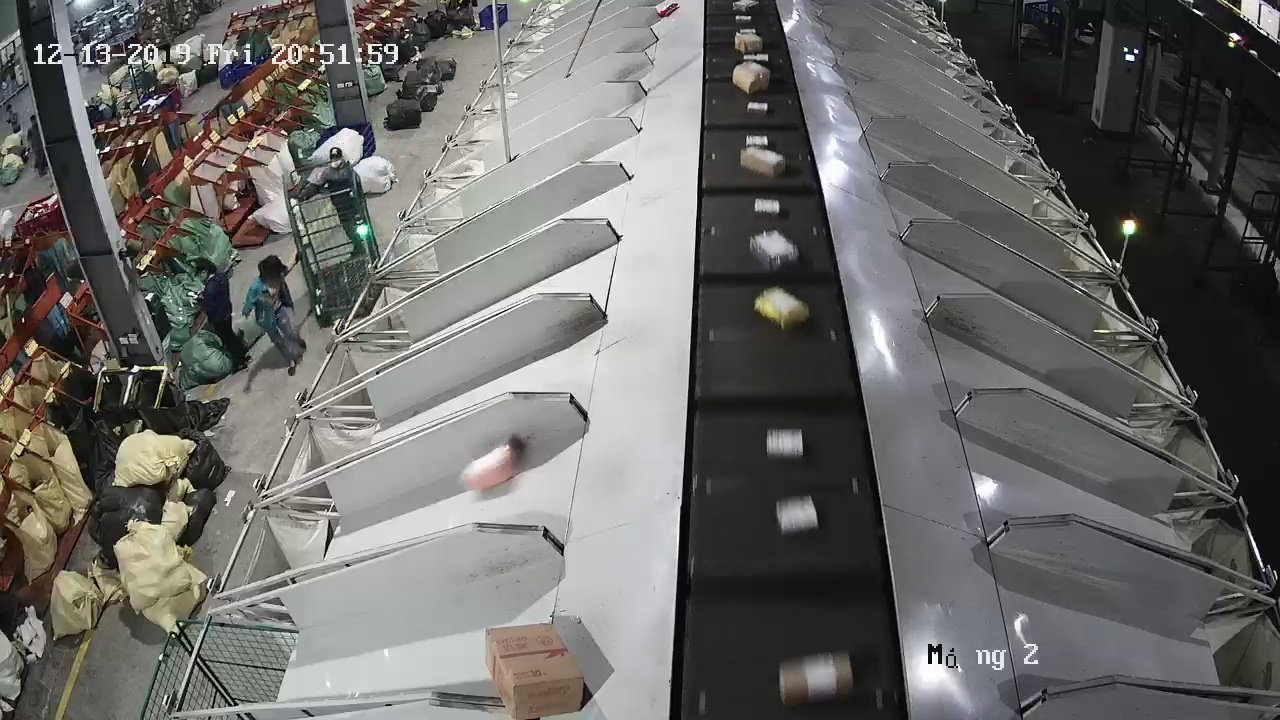parcel: (456, 439, 515, 491)
